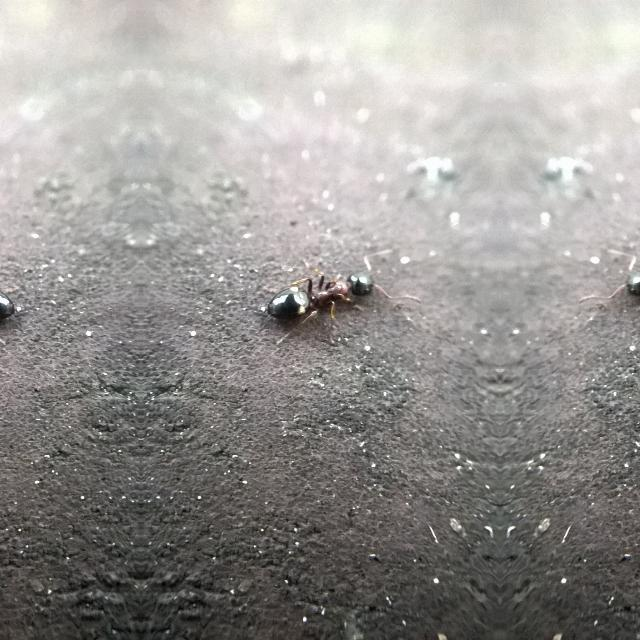Dolichoderus: (252, 236, 390, 352), (608, 236, 640, 352), (0, 236, 28, 352)
